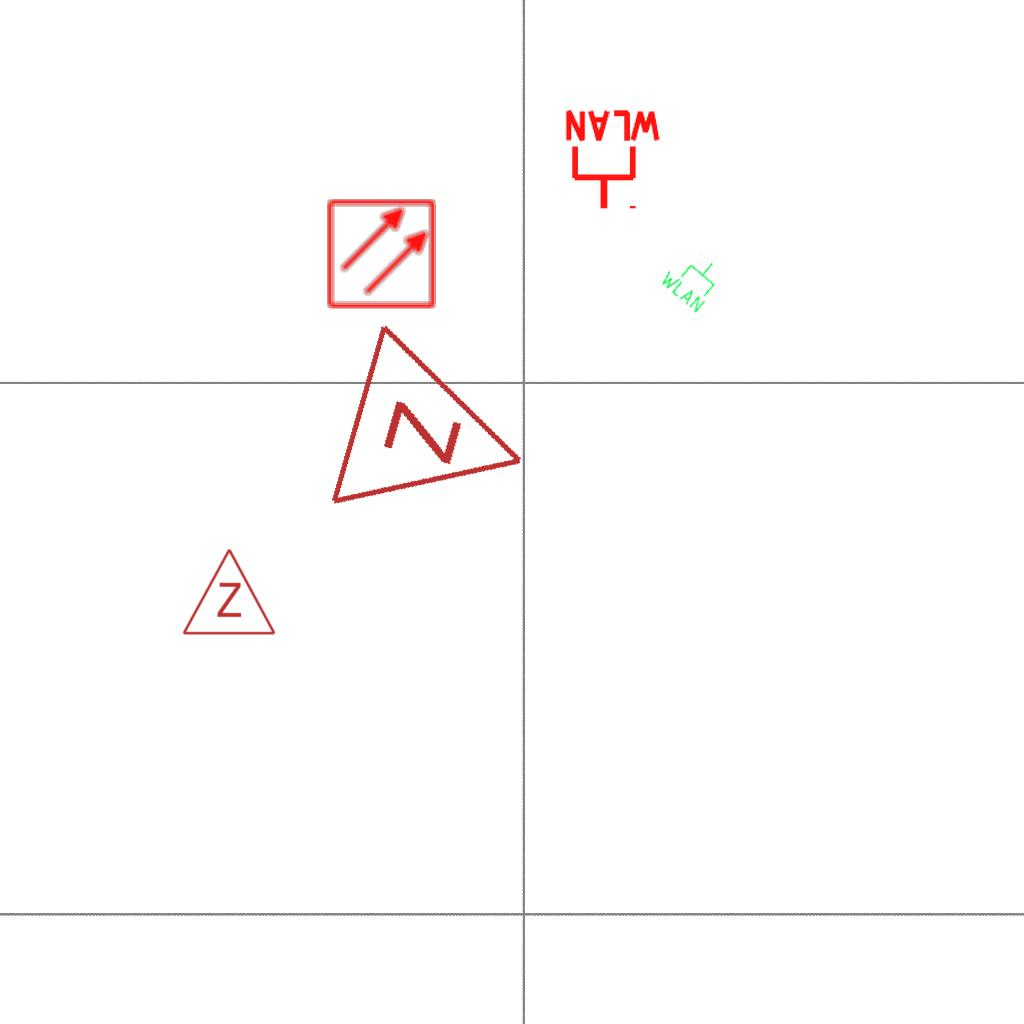RMO_Rauchmelder_optischer: (325, 197, 438, 310)
WLAN: (561, 108, 665, 213), (656, 242, 730, 316)
Zimmersignalleuchte: (315, 313, 563, 557), (179, 542, 277, 642)
